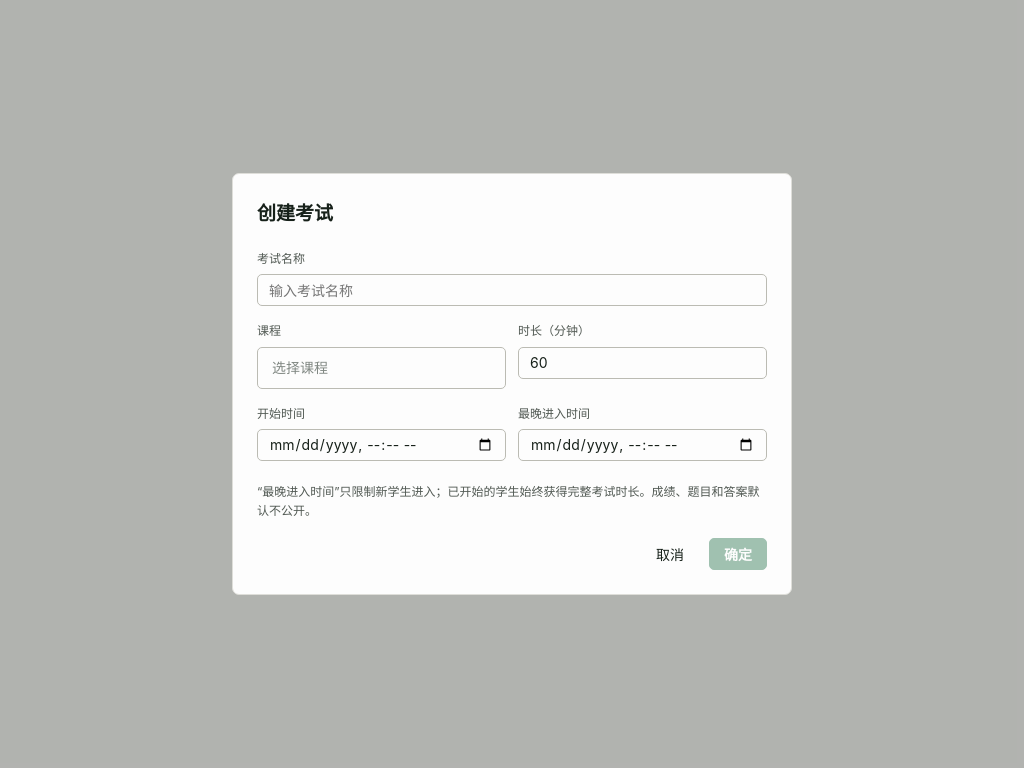
Test: ExamCreateDialog › 课程弹窗支持手动输入课程 ID 回填
The width and height of the screenshot is (1024, 768).
Click the button with class "course-picker". click: coordinates (382, 368)
box: [257,347,506,389]
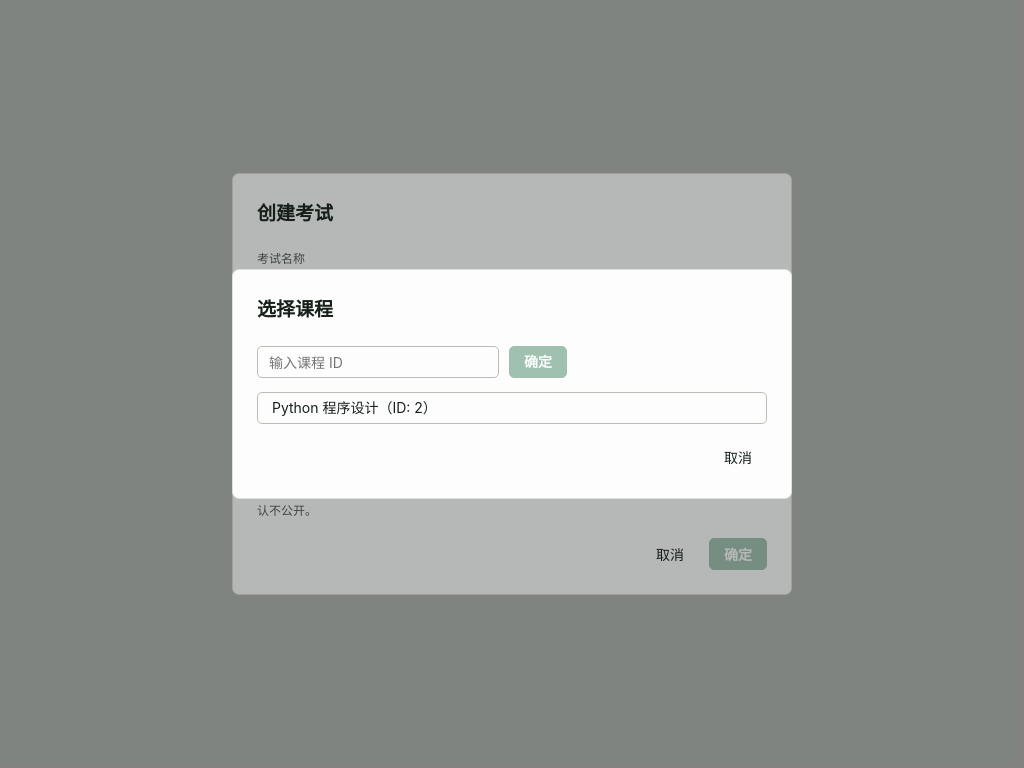
Type "7" into the field with class "course-id-input". click: coordinates (378, 362)
box: [257,346,499,378]
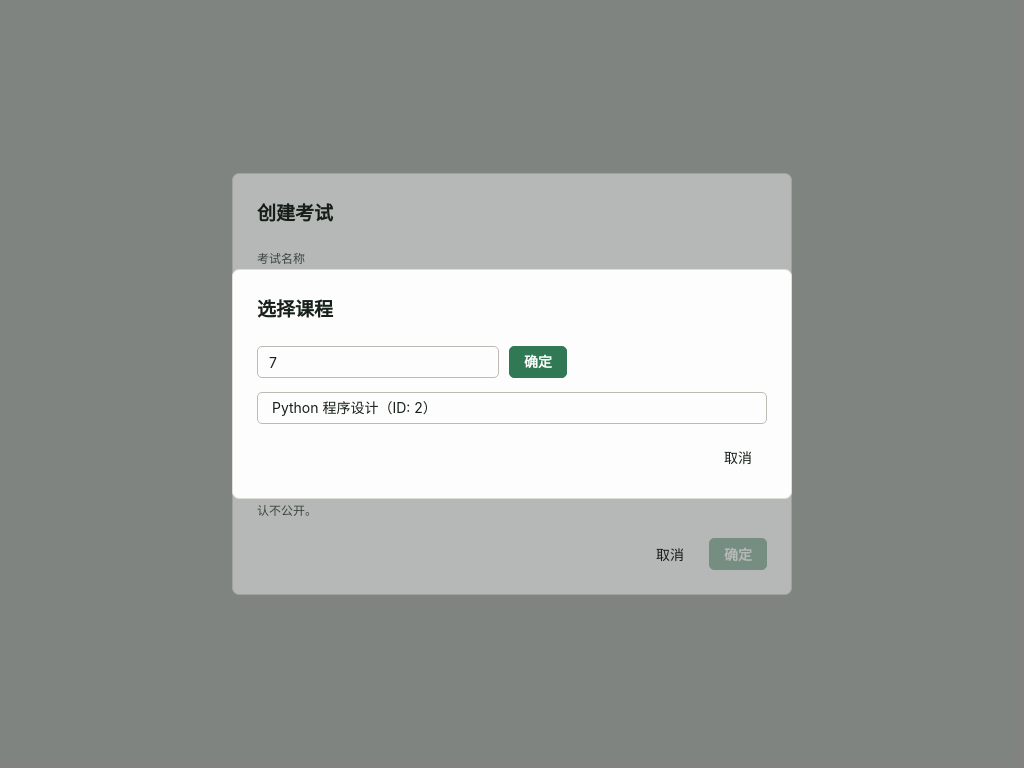
Click the button with class "manual-confirm". click: coordinates (538, 362)
box: [509,346,567,378]
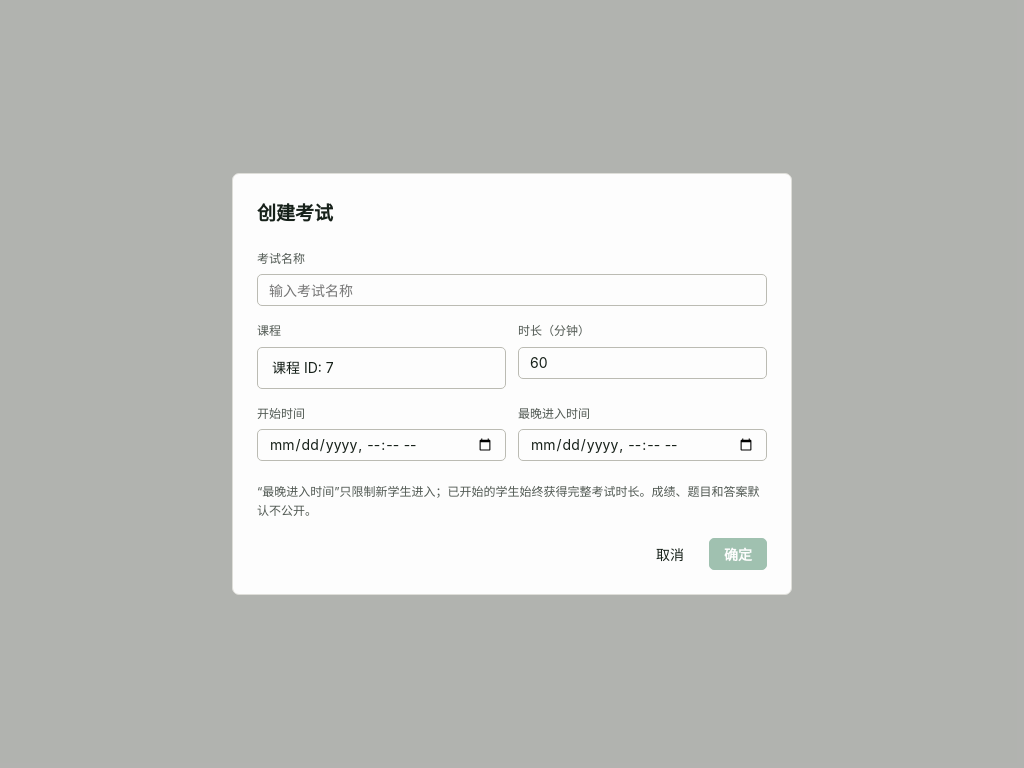
Now the text "课程 ID: 7" is shown, box [272,357,334,379]
